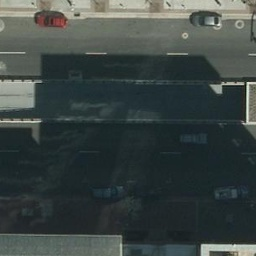car: (215, 183, 252, 204), (92, 181, 127, 203), (171, 125, 207, 145), (35, 11, 68, 30), (190, 10, 222, 26)
